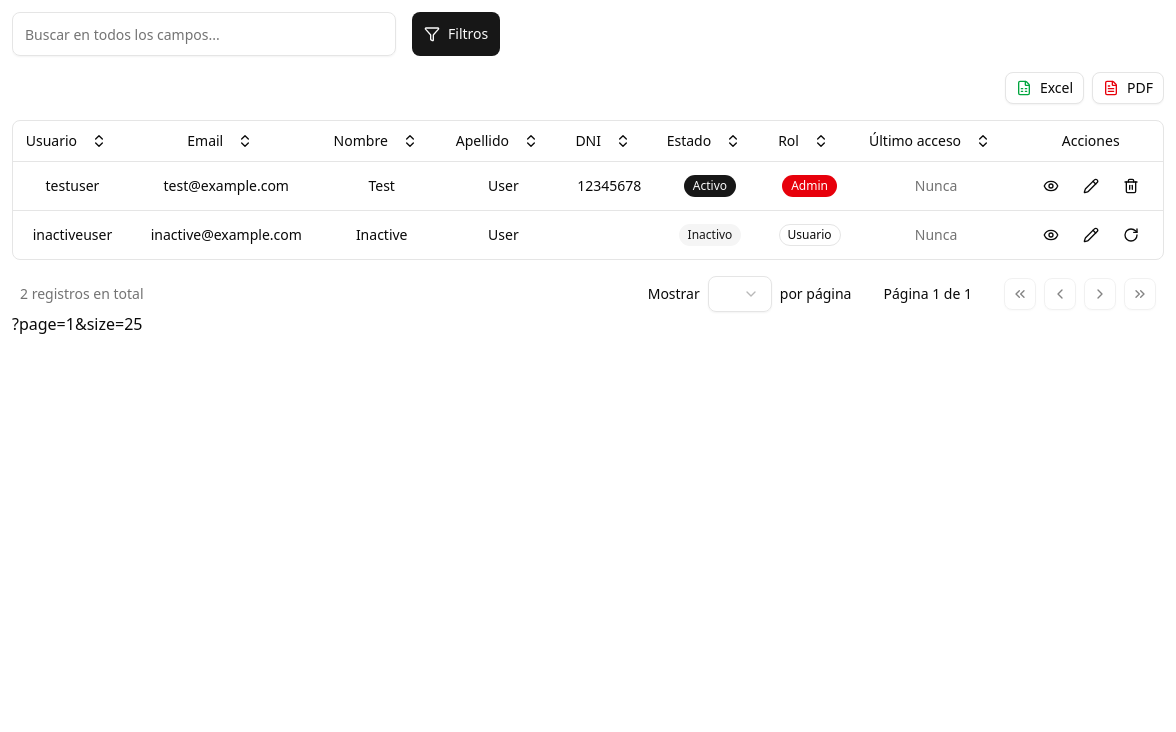
Scenario: UsersTable › marks sorting as an active filter and exposes the clear action
Expected: the text "!" is not shown
Click the button "Filtros": (456, 34) [412,12,500,56]
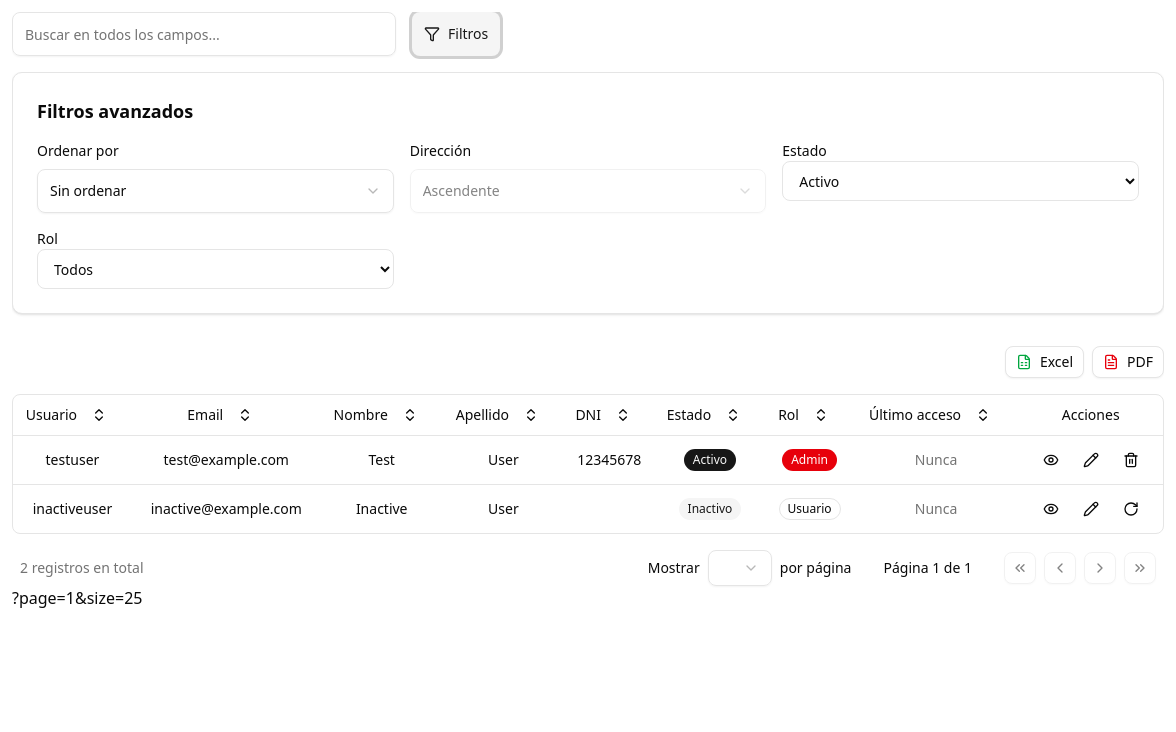
Expected: the button "Limpiar todos" is not shown
Expected: the dropdown named "Dirección" is disabled, [410,169,766,213]
Click the dropdown named "Ordenar por": (88, 190) [37,169,394,213]
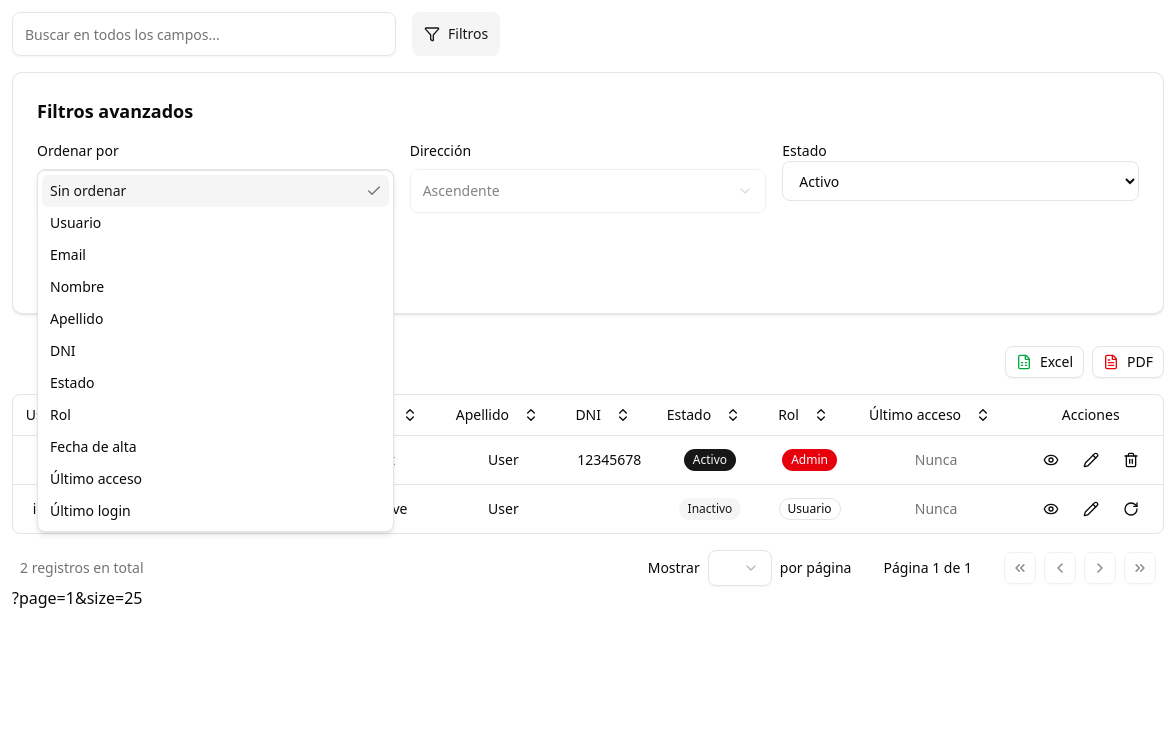
Click the option "Email": (68, 254) [50,245,86,264]
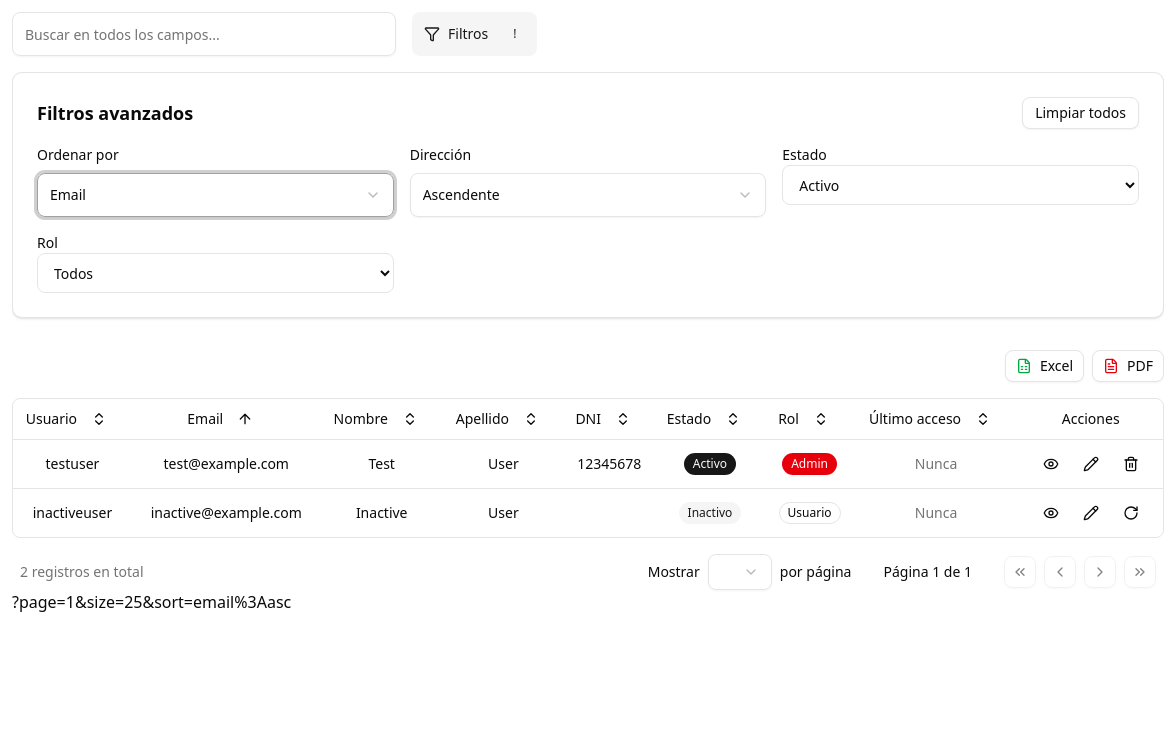
Expected: the text "!" is shown, [504,23,525,45]
Expected: the button "Limpiar todos" is shown, [1022,97,1139,129]
Expected: the text with test id "location-search" shows "sort=email%3Aasc", [12,590,291,612]
